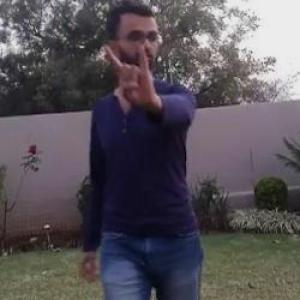takeoff-hand: (99, 36, 164, 119)
